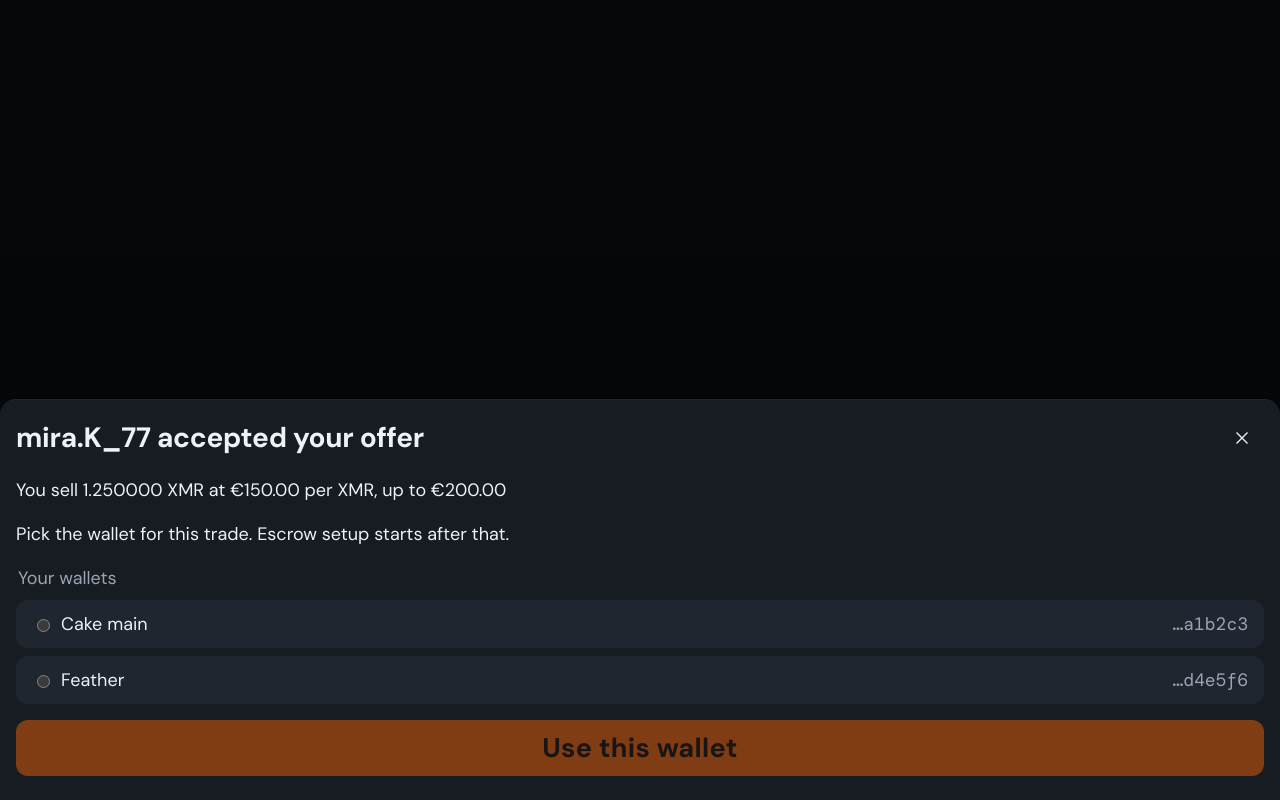
it: AcceptedSheet › with no default, pre-selects no wallet: Use this wallet is disabled until a radio is chosen
Expected: the button "Use this wallet" is disabled, [16,720,1264,776]
What coordinates should you click on to do the following:
click the radio button labelled "Cake main …a1b2c3"
I would click on:
 (44, 626)
Its box is [37,619,50,632].
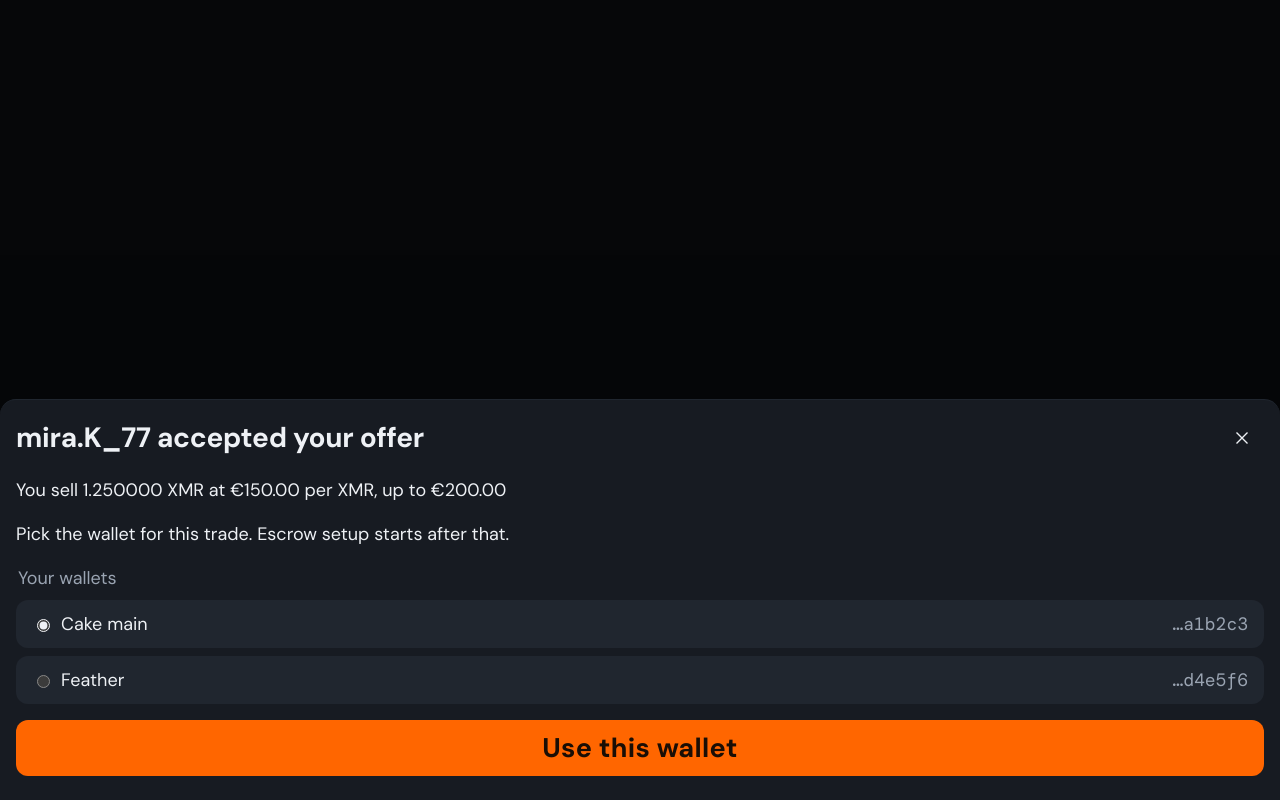
Expected: the radio button labelled "Cake main …a1b2c3" is checked, [37,619,50,632]
Expected: the button "Use this wallet" is enabled, [16,720,1264,776]
